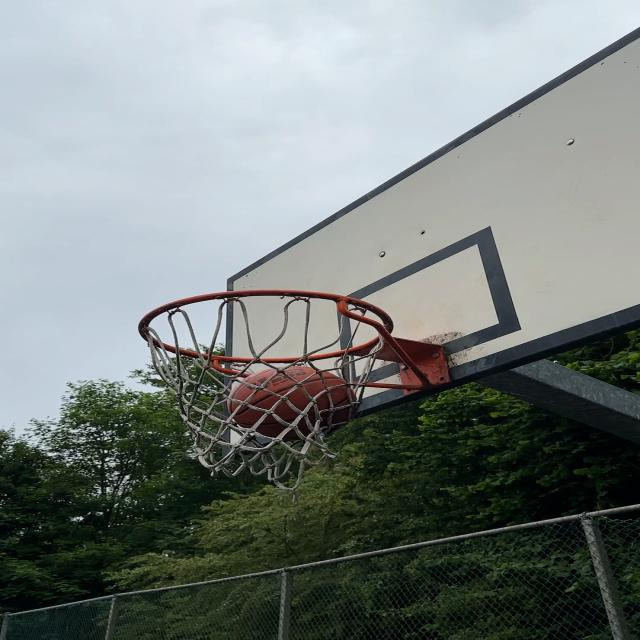Goal: (232, 364, 362, 436)
